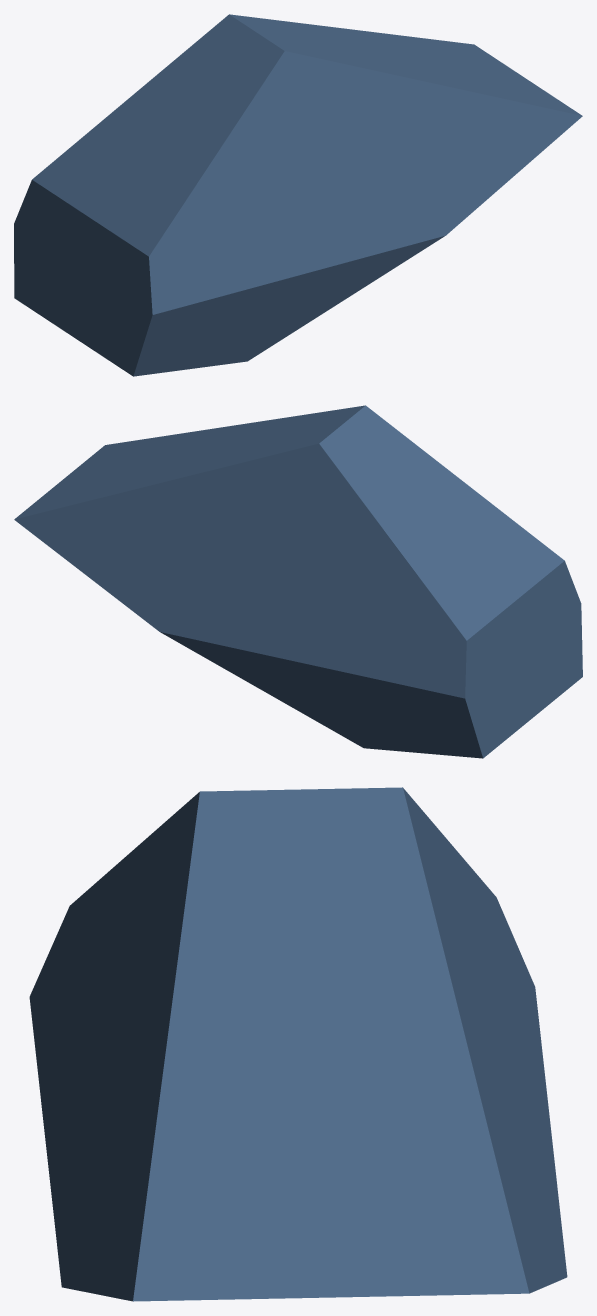
File: test_test.001_lev3.glb
The picture shows the model from 3 angles, top to bottom: view 1: azimuth 30°, elevation 25°; view 2: azimuth 150°, elevation 25°; view 3: azimuth 270°, elevation 25°; orthographic projection. The views are drawn at different scales.
Parts seen in each view (by area): view 1: test_test.001_lev3; view 2: test_test.001_lev3; view 3: test_test.001_lev3.
Part boxes in pixels (x1=…): test_test.001_lev3: x1=14, y1=14, x2=582, y2=376; test_test.001_lev3: x1=14, y1=405, x2=582, y2=758; test_test.001_lev3: x1=29, y1=787, x2=567, y2=1301.
Size of the model in its own units: 1.06 by 0.5813 by 0.5252.
